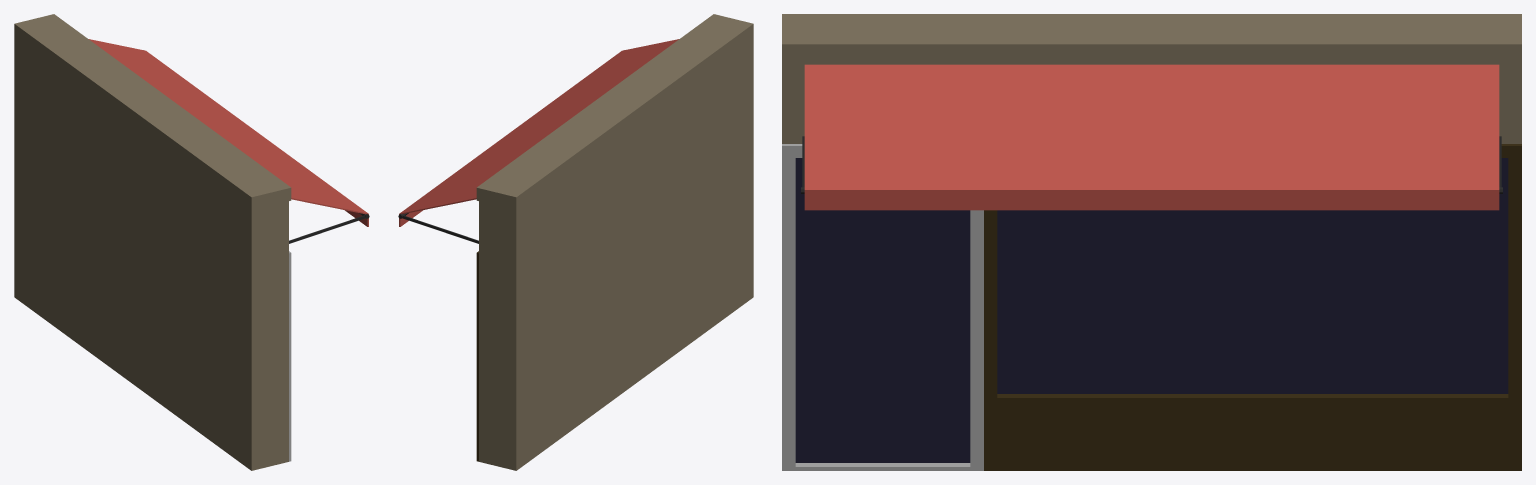
The model's file is Shop.fbx.
3 views of the same model, side by side, from view 1: azimuth 30°, elevation 25°; view 2: azimuth 150°, elevation 25°; view 3: azimuth 270°, elevation 25° (orthographic). The views are drawn at different scales.
Visible parts, largest first — view 1: Shop; view 2: Shop; view 3: Shop.
Part boxes in pixels (left/top/right/bottom): Shop: left=14, top=14, right=369, bottom=470; Shop: left=398, top=14, right=753, bottom=470; Shop: left=782, top=14, right=1521, bottom=470.
Size of the model in its own units: 100 by 210 by 330.
